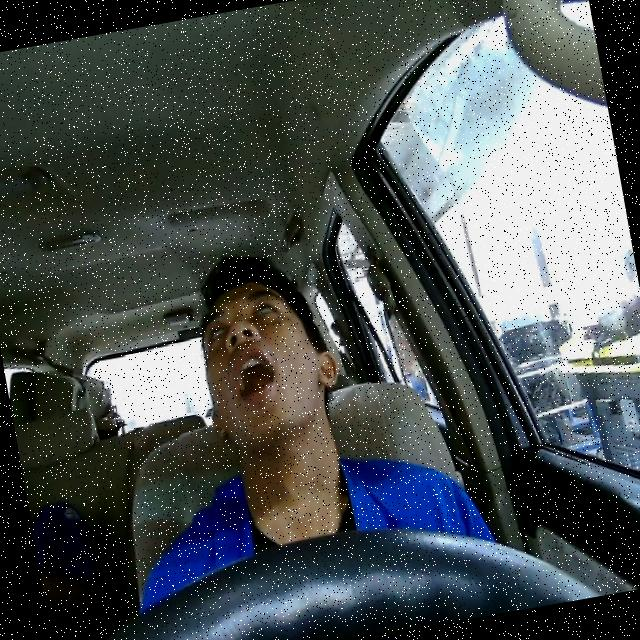yarning: (185, 264, 347, 464)
